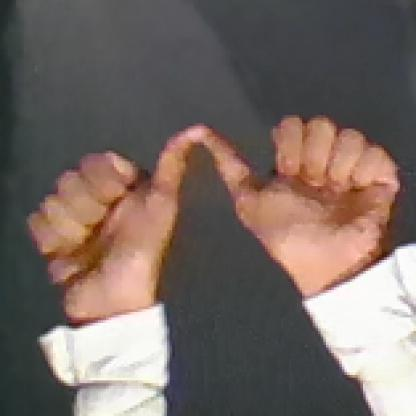A: (12, 110, 409, 300)
